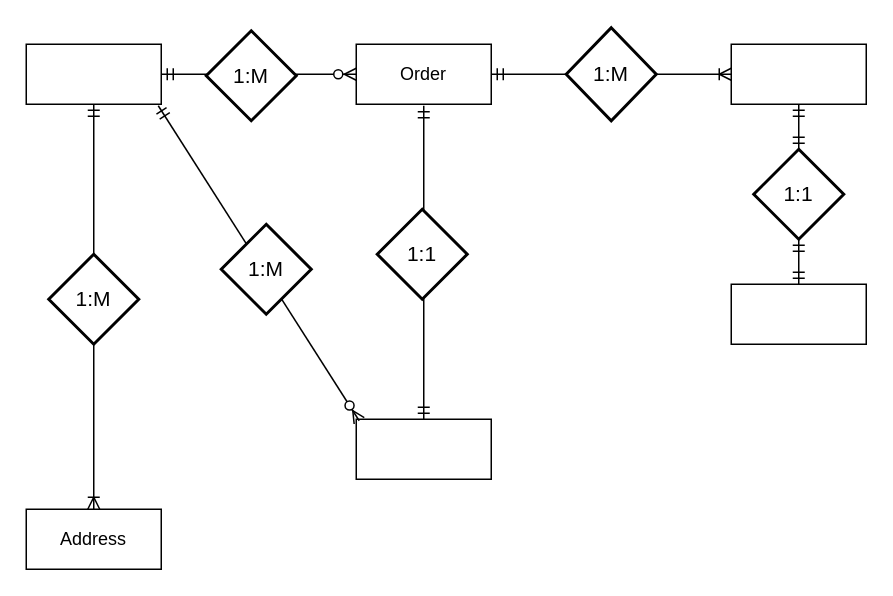
This 893x596 diagram has some shape labels left out. The centre of each missing label's shape, as x and y in pixels:
"Customer" belongs at pixel 93 73.
"Orderline" belongs at pixel 798 73.
"Payment" belongs at pixel 423 448.
"Products" belongs at pixel 798 313.
